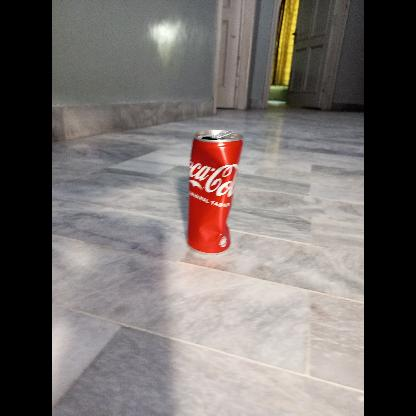Dent_Can: (190, 154, 239, 185), (200, 207, 223, 242)
Lid_Open: (201, 122, 235, 146)
Tin_Can: (186, 124, 246, 256)
